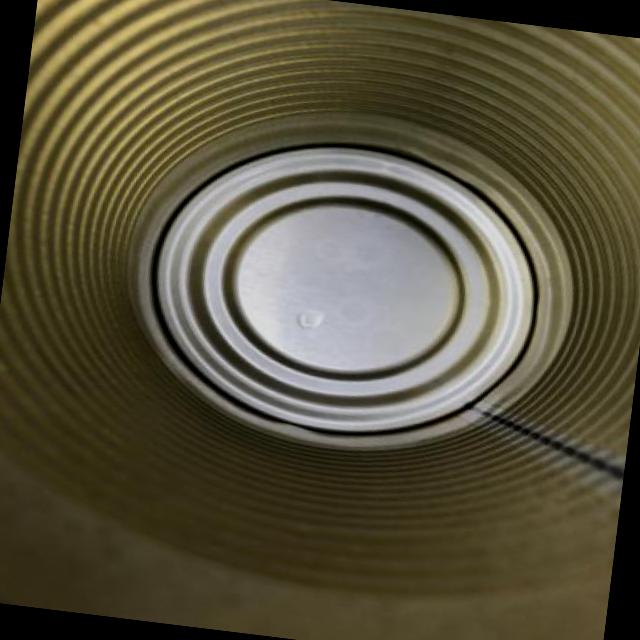metal: (156, 147, 534, 433)
